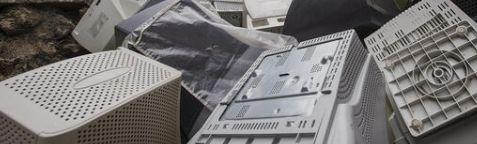electronic: (187, 29, 385, 143), (1, 47, 185, 143), (283, 1, 385, 46), (72, 1, 152, 54), (242, 0, 294, 34), (212, 0, 245, 28)
